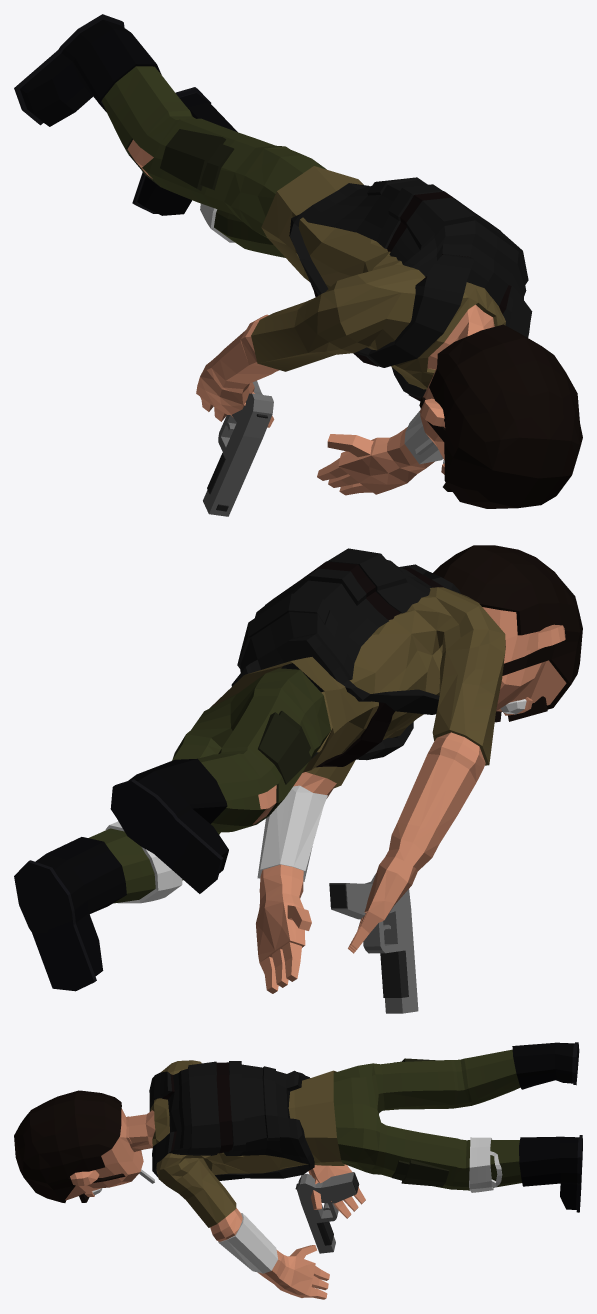
Rendered from frame_0084.obj.
3 renders of one model, top to bottom at view 1: azimuth 30°, elevation 25°; view 2: azimuth 150°, elevation 25°; view 3: azimuth 270°, elevation 25°, orthographic. The views are drawn at different scales.
Parts seen in each view (by area): view 1: Body, Gun; view 2: Body, Gun; view 3: Body, Gun.
Part boxes in pixels (x1,y1,x2,y2): Body: [14, 14, 582, 508]; Gun: [203, 380, 273, 516]; Body: [14, 545, 582, 993]; Gun: [329, 873, 418, 1013]; Body: [14, 1042, 582, 1299]; Gun: [295, 1172, 359, 1253].
Size of the model in its own units: 1.33 by 1.92 by 4.16.
